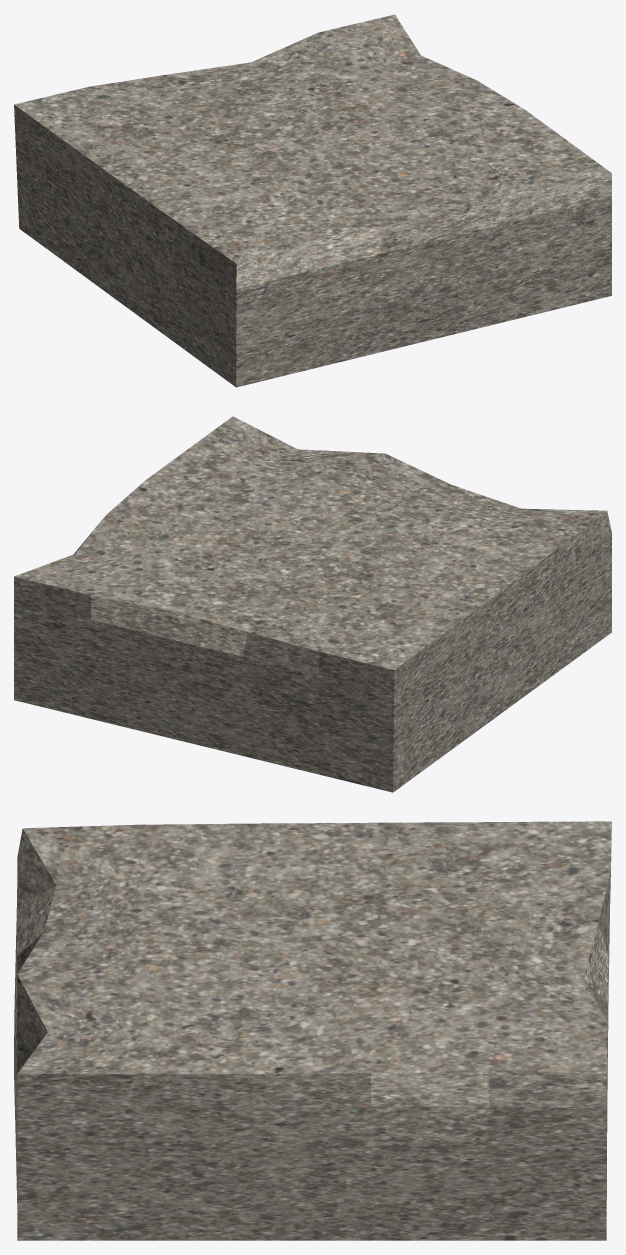
Rendered from gravel.fbx.
3 renders of one model, top to bottom at view 1: azimuth 30°, elevation 25°; view 2: azimuth 150°, elevation 25°; view 3: azimuth 270°, elevation 25°, orthographic. The views are drawn at different scales.
Visible parts, largest first — view 1: Cube; view 2: Cube; view 3: Cube.
Part boxes in pixels (left/top/right/bottom): Cube: left=14, top=14, right=611, bottom=387; Cube: left=14, top=416, right=611, bottom=792; Cube: left=14, top=821, right=611, bottom=1240.
Bounding box in the file's own units: 140 × 43.44 × 140.
